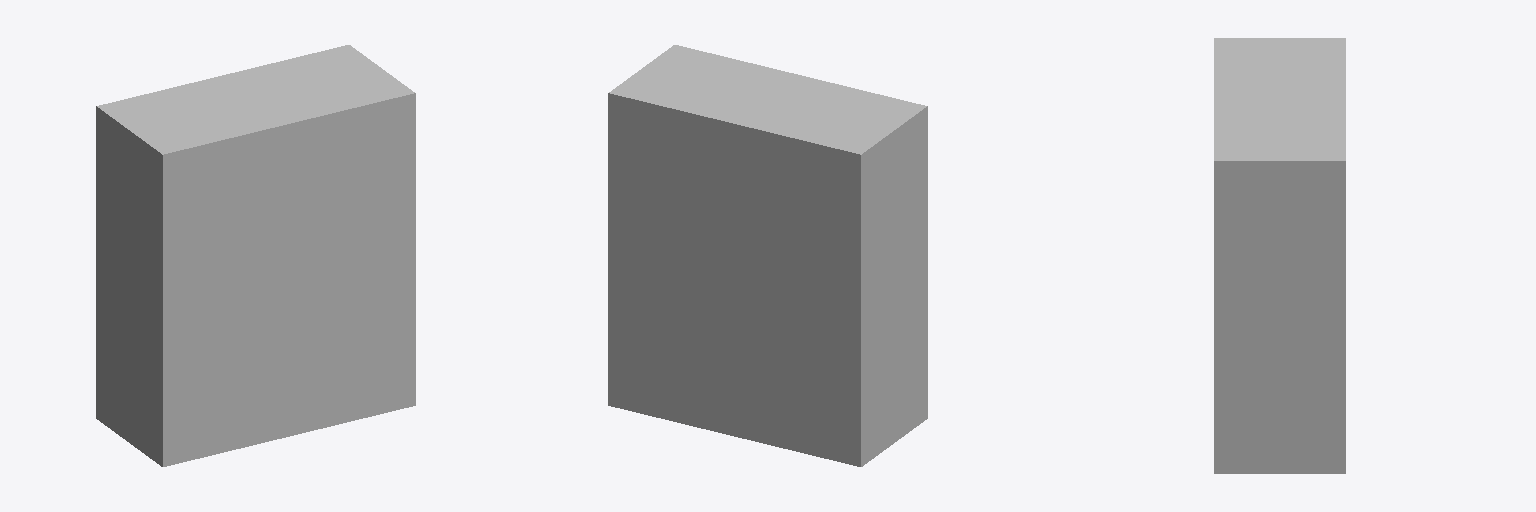
File: LargeArmorKit_LOD1.obj
3 renders of one model, left to right at view 1: azimuth 30°, elevation 25°; view 2: azimuth 150°, elevation 25°; view 3: azimuth 270°, elevation 25°, orthographic.
Visible parts, largest first — view 1: object 1; view 2: object 1; view 3: object 1.
Part boxes in pixels (x1,y1,x2,y2): object 1: (96, 45, 415, 466); object 1: (608, 45, 927, 466); object 1: (1214, 38, 1345, 473).
Size of the model in its own units: 1.1 by 1.3 by 0.5.